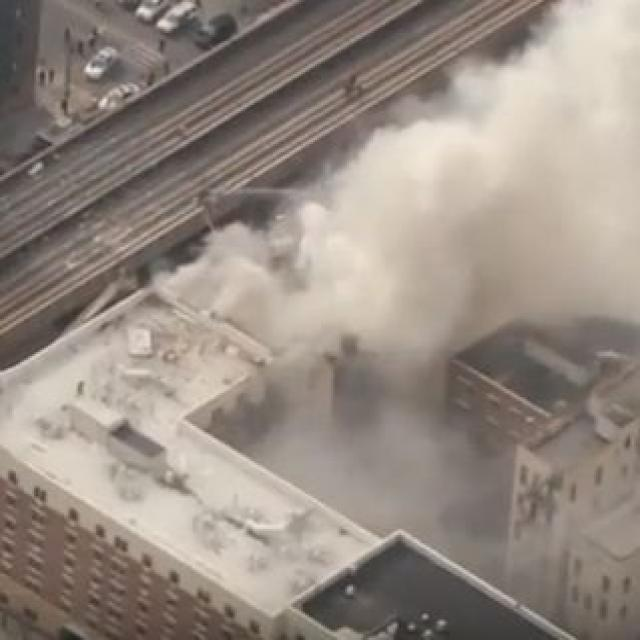Smoke: (286, 0, 639, 367)
